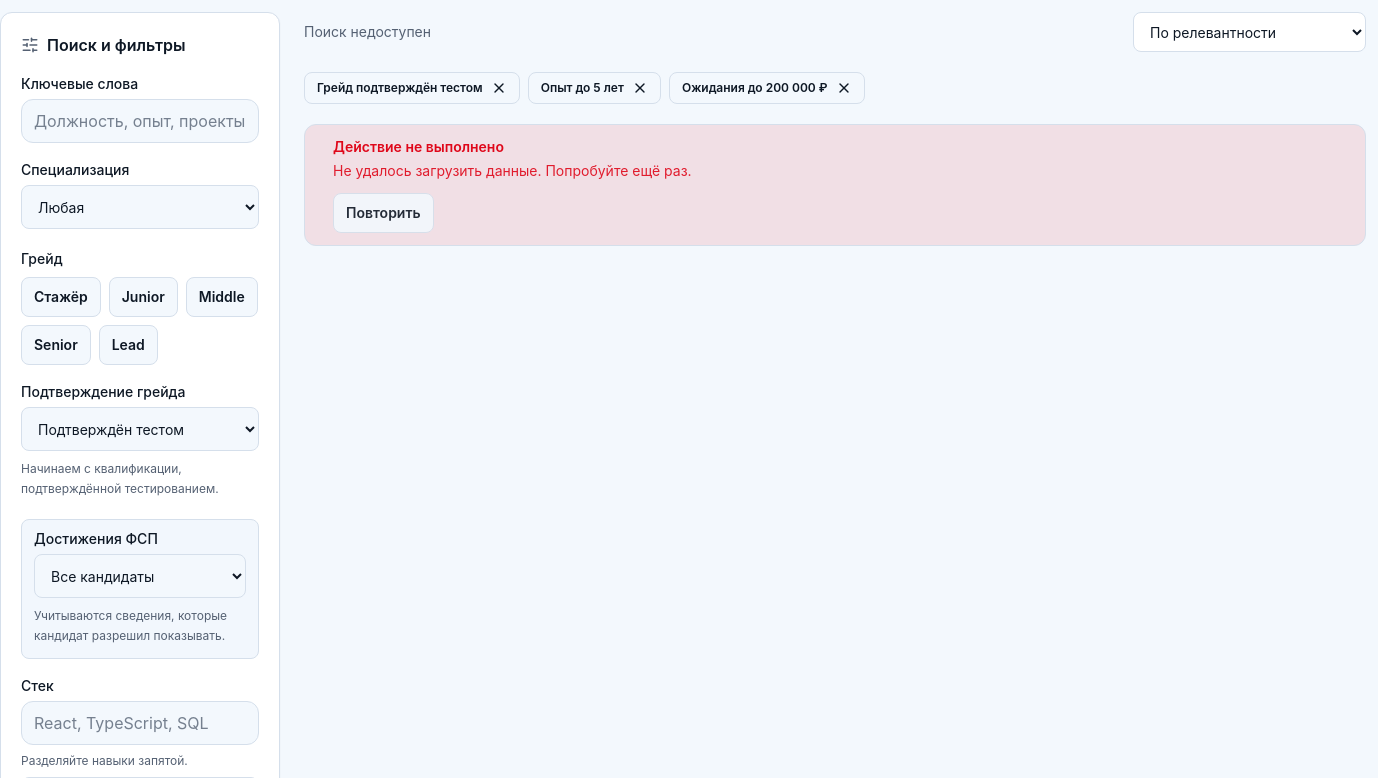
Test: candidate bank refinement › lets the employer retry a failed search with the same applied conditions
Expected: the text "Действие не выполнено" is shown, left=333, top=138, right=504, bottom=155
Click the button "Повторить" at point(383, 213), box left=333, top=193, right=434, bottom=233
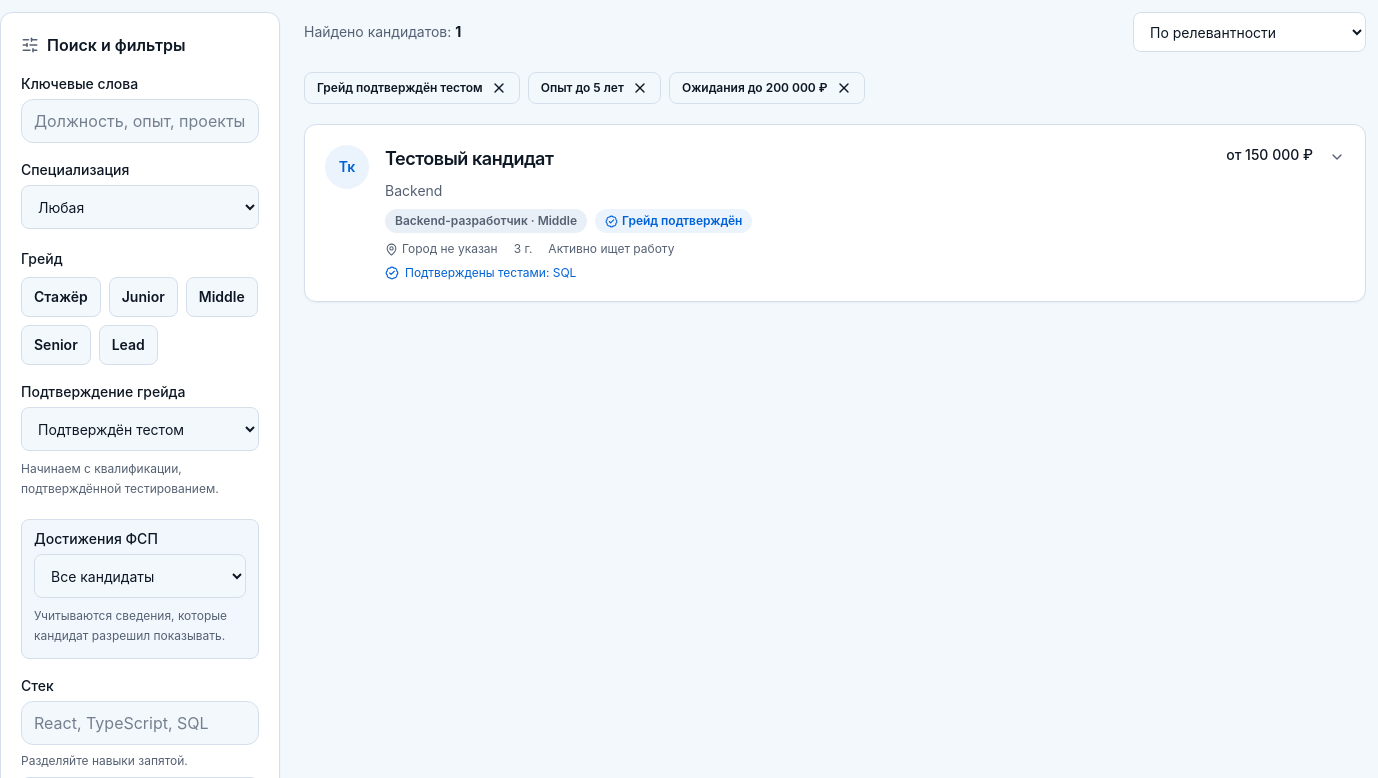
Result: the text "Тестовый кандидат" is shown at left=385, top=145, right=554, bottom=173
